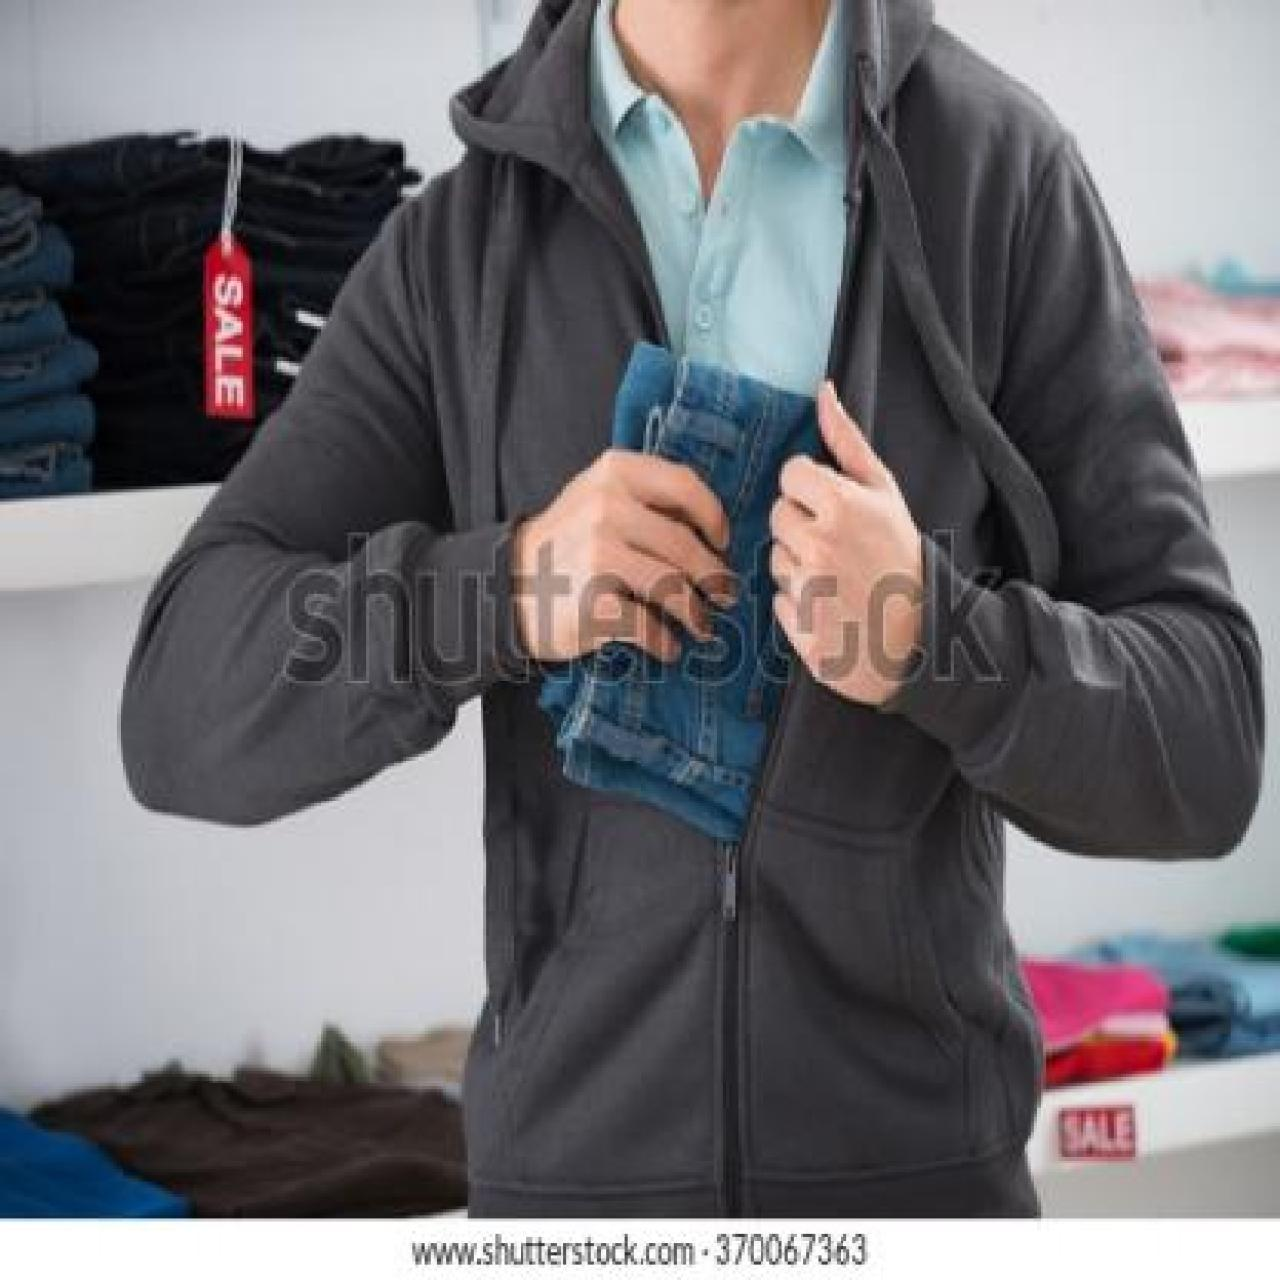Shoplifting: (493, 320, 1116, 1206)
